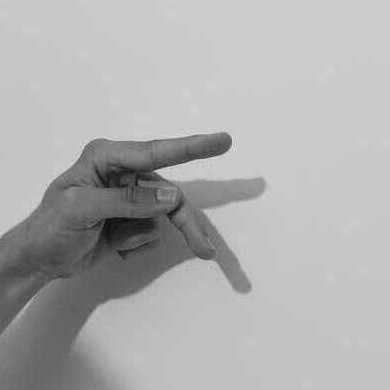P: (37, 131, 233, 280)
